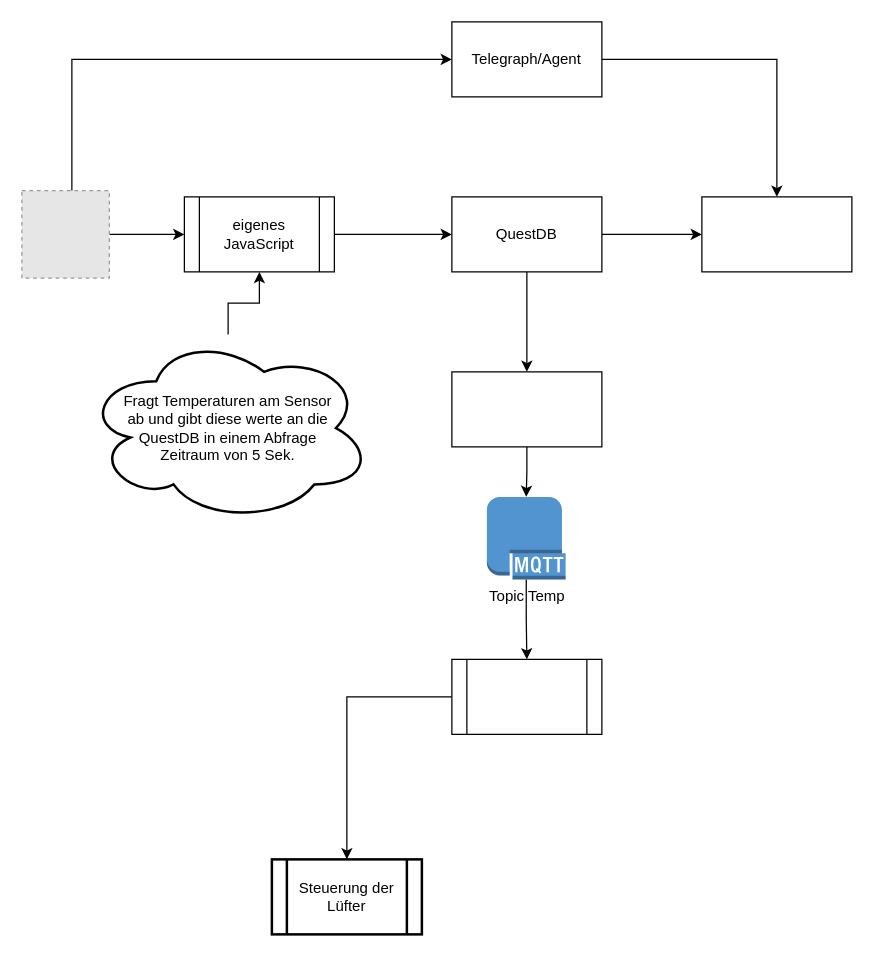
Image size: 874x958. Some labels were removed from this diagram. Grey dashed boxes stand in for pictures. The shapes that lost their labels are listed below. From the top down, each one's centre as x and y in pixels, then its label:
At (x=776, y=234): "Grafana".
At (x=526, y=409): "Kafka".
At (x=526, y=696): "Eingang JavaScript".
